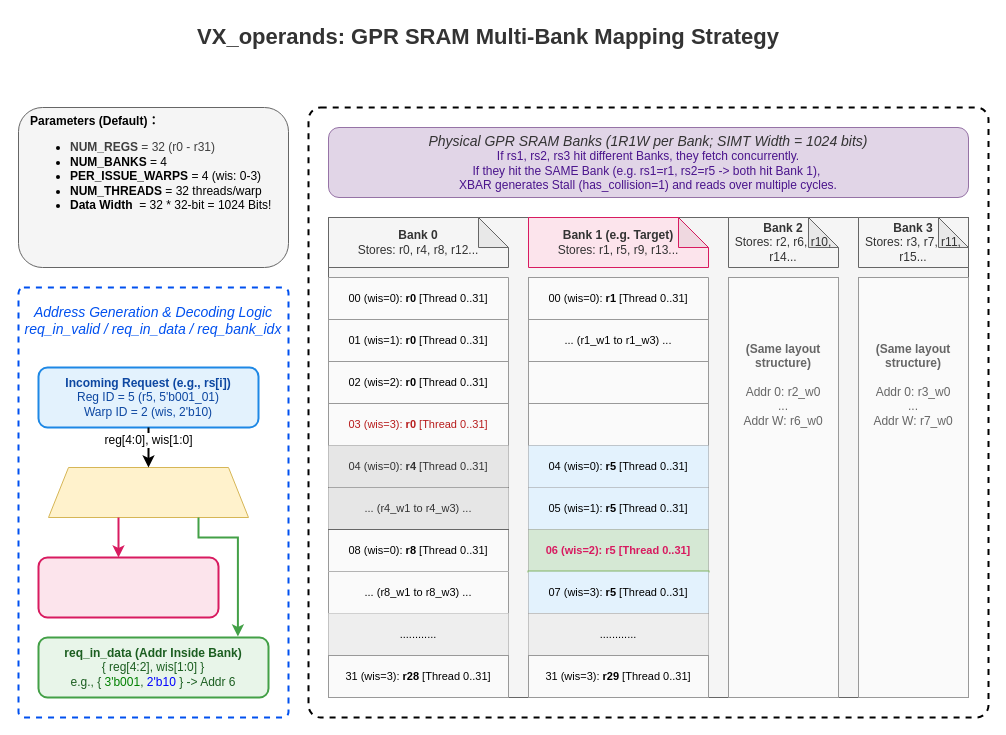
This 1006x735 diagram has some shape labels left out. The centre of each missing label's shape, as x and y in pixels:
Bitwise Splitting & Concat: point 148,492
req_bank_idx (Bank Select) reg[1:0] (Lowest 2 bits) e.g., 5'b001_ 01 -> Bank 1: point 128,587
